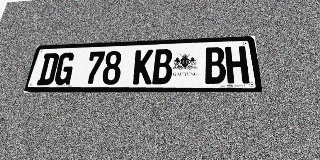7: (83, 51, 106, 85)
8: (101, 51, 123, 85)
B: (204, 47, 227, 84), (152, 49, 173, 84)
D: (36, 53, 60, 85)
G: (53, 52, 76, 85)
H: (225, 46, 249, 84)
K: (132, 49, 153, 84)
